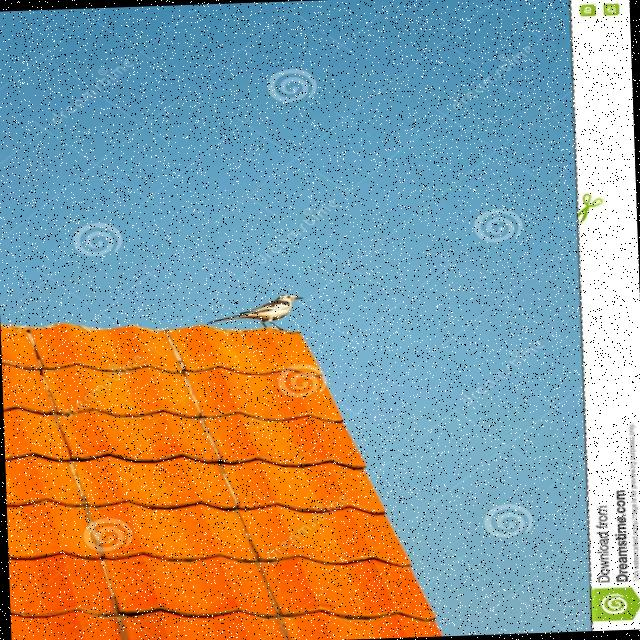bird: (206, 293, 304, 333)
